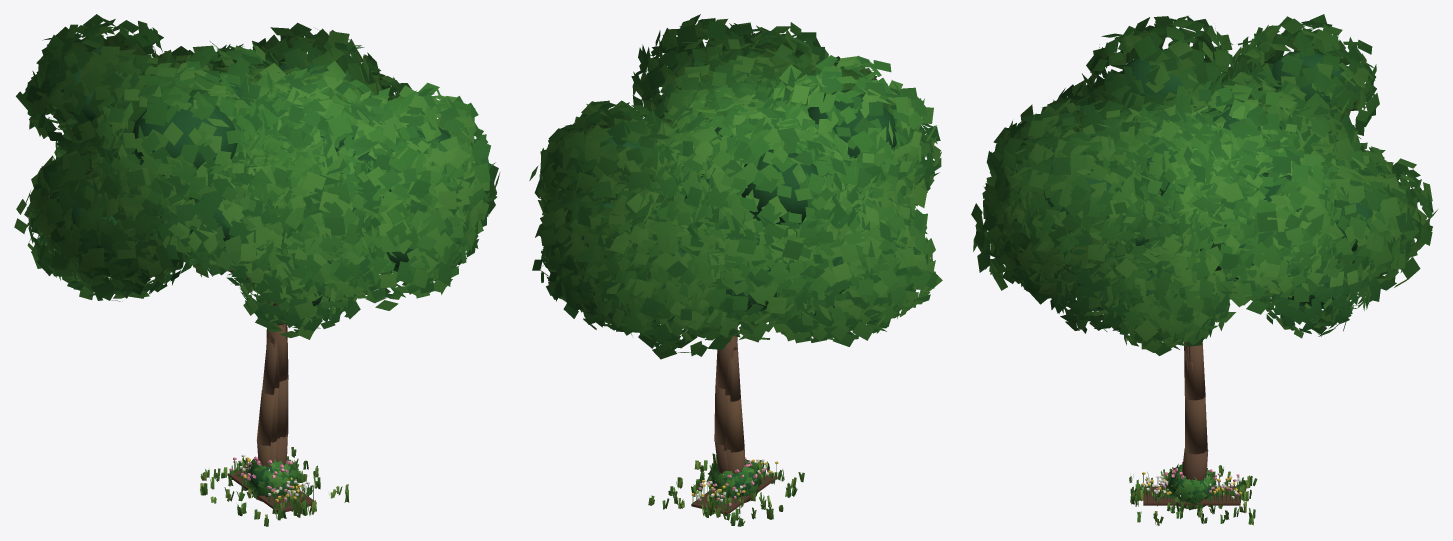
Rendered from nature.glb.
The picture shows the model from 3 angles, left to right: view 1: azimuth 30°, elevation 25°; view 2: azimuth 150°, elevation 25°; view 3: azimuth 270°, elevation 25°; orthographic projection. The views are drawn at different scales.
Visible parts, largest first — view 1: tree2, treeYard, tree1, tree0, tufts, bush1, flowerBed; view 2: tree2, treeYard, tree0, tree1, tufts, flowerBed, bush1; view 3: tree2, treeYard, tree0, tree1, flowerBed, tufts, bush1.
Part boxes in pixels (<box>): tree2: <box>16,14,489,501</box>; treeYard: <box>14,62,500,360</box>; tree1: <box>54,148,487,466</box>; tree0: <box>53,61,411,466</box>; tufts: <box>200,447,349,526</box>; bush1: <box>246,456,300,497</box>; flowerBed: <box>227,454,316,512</box>; tree2: <box>535,44,936,503</box>; treeYard: <box>573,14,942,470</box>; tree0: <box>529,55,842,472</box>; tree1: <box>532,102,941,473</box>; tufts: <box>648,453,804,526</box>; flowerBed: <box>691,459,778,514</box>; bush1: <box>706,457,761,498</box>; tree2: <box>986,14,1414,509</box>; treeYard: <box>971,88,1437,374</box>; tree0: <box>1106,82,1420,314</box>; tree1: <box>1046,80,1380,346</box>; flowerBed: <box>1142,472,1242,505</box>; tufts: <box>1129,465,1257,525</box>; bush1: <box>1164,462,1216,504</box>.
Bounding box in the file's own units: 11.46 × 11.81 × 11.52.
